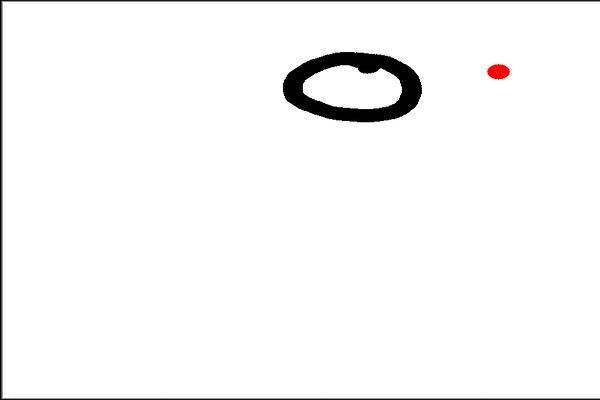O: (272, 37, 430, 139)
